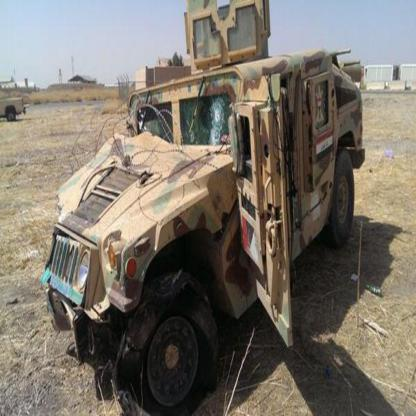Car: (40, 0, 366, 415)
Truck: (0, 81, 26, 124)
